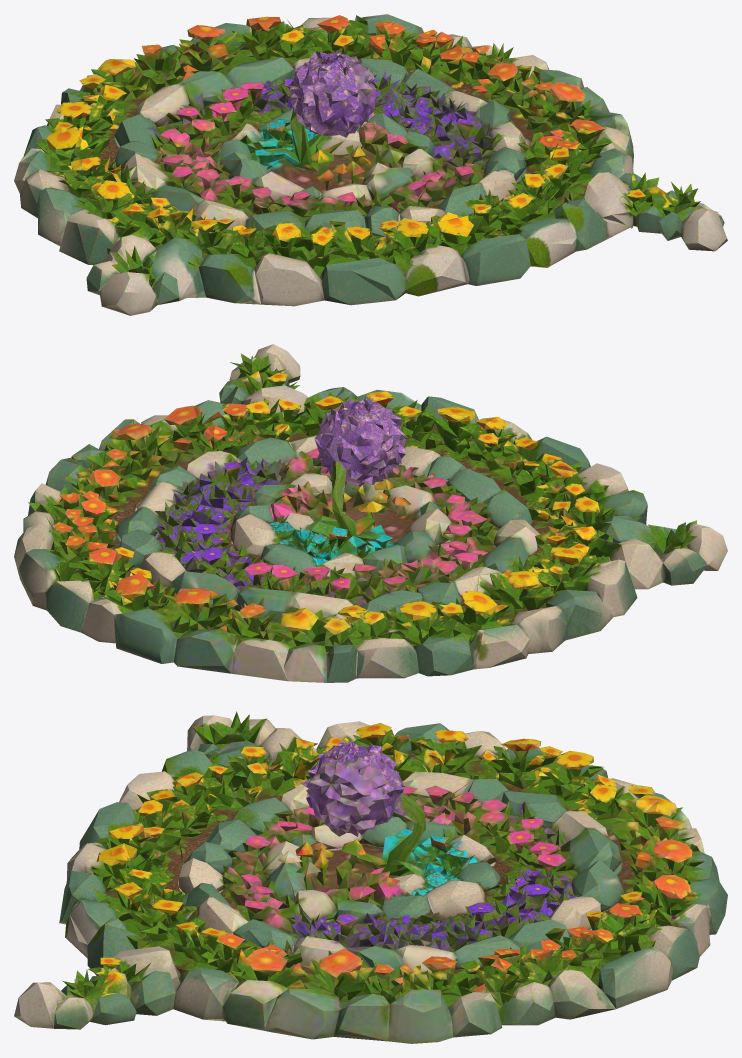
The model's file is spiral-garden.glb.
The picture shows the model from 3 angles, top to bottom: view 1: azimuth 30°, elevation 25°; view 2: azimuth 150°, elevation 25°; view 3: azimuth 270°, elevation 25°; orthographic projection. The views are drawn at different scales.
Visible parts, largest first — view 1: output_unwrapped; view 2: output_unwrapped; view 3: output_unwrapped.
Part boxes in pixels (x1,y1,x2,y2): output_unwrapped: (14, 14, 727, 315); output_unwrapped: (14, 344, 727, 682); output_unwrapped: (14, 711, 727, 1043).
Bounding box in the file's own units: 1.9 × 0.4447 × 1.89.
1 material, 1 textured.
